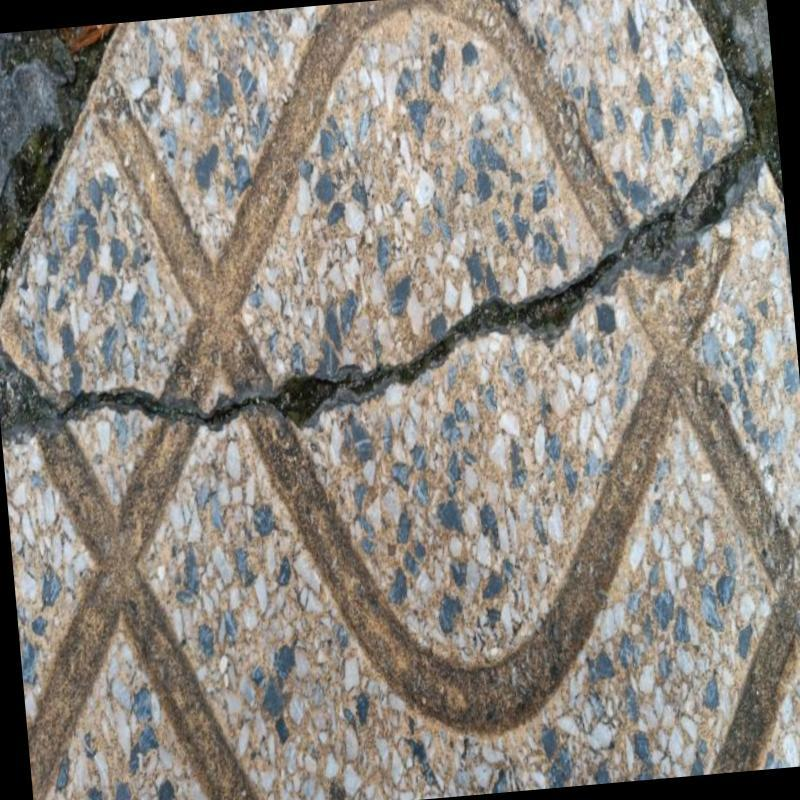pothole: (0, 145, 752, 434)
